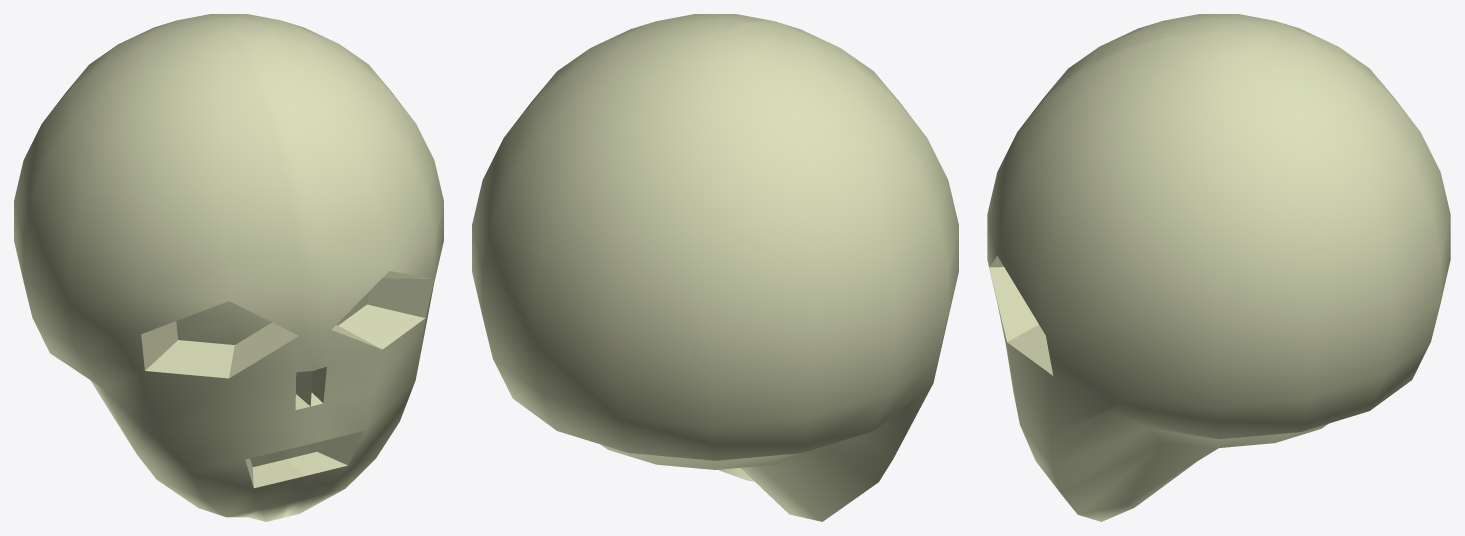
Rendered from skull.fbx.
3 views of the same model, side by side, from view 1: azimuth 30°, elevation 25°; view 2: azimuth 150°, elevation 25°; view 3: azimuth 270°, elevation 25° (orthographic). The views are drawn at different scales.
Parts seen in each view (by area): view 1: Skull; view 2: Skull; view 3: Skull.
Part boxes in pixels (x1,y1,x2,y2): Skull: [14, 14, 443, 521]; Skull: [472, 14, 958, 521]; Skull: [987, 14, 1450, 521].
Bounding box in the file's own units: 28.6 × 32.64 × 28.75.
